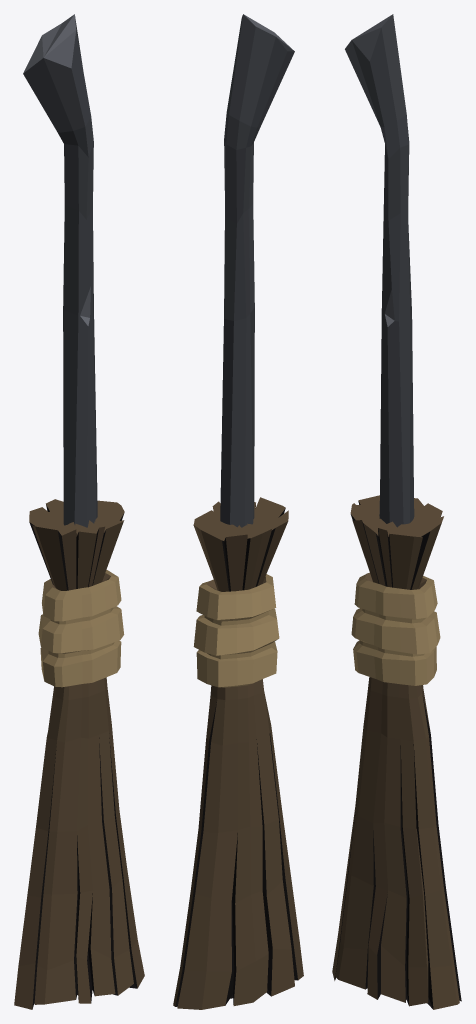
The model's file is WF_LP_HT_Props_Broom.004.fbx.
The picture shows the model from 3 angles, left to right: view 1: azimuth 30°, elevation 25°; view 2: azimuth 210°, elevation 25°; view 3: azimuth 330°, elevation 25°; orthographic projection.
Parts seen in each view (by area): view 1: WF_LP_HT_Props_Broom.004; view 2: WF_LP_HT_Props_Broom.004; view 3: WF_LP_HT_Props_Broom.004.
Boxes of the visible parts, x1=… form: WF_LP_HT_Props_Broom.004: x1=14, y1=14, x2=144, y2=1009; WF_LP_HT_Props_Broom.004: x1=173, y1=14, x2=303, y2=1009; WF_LP_HT_Props_Broom.004: x1=332, y1=14, x2=461, y2=1009.
Size of the model in its own units: 0.2198 by 1.6 by 0.1248.
